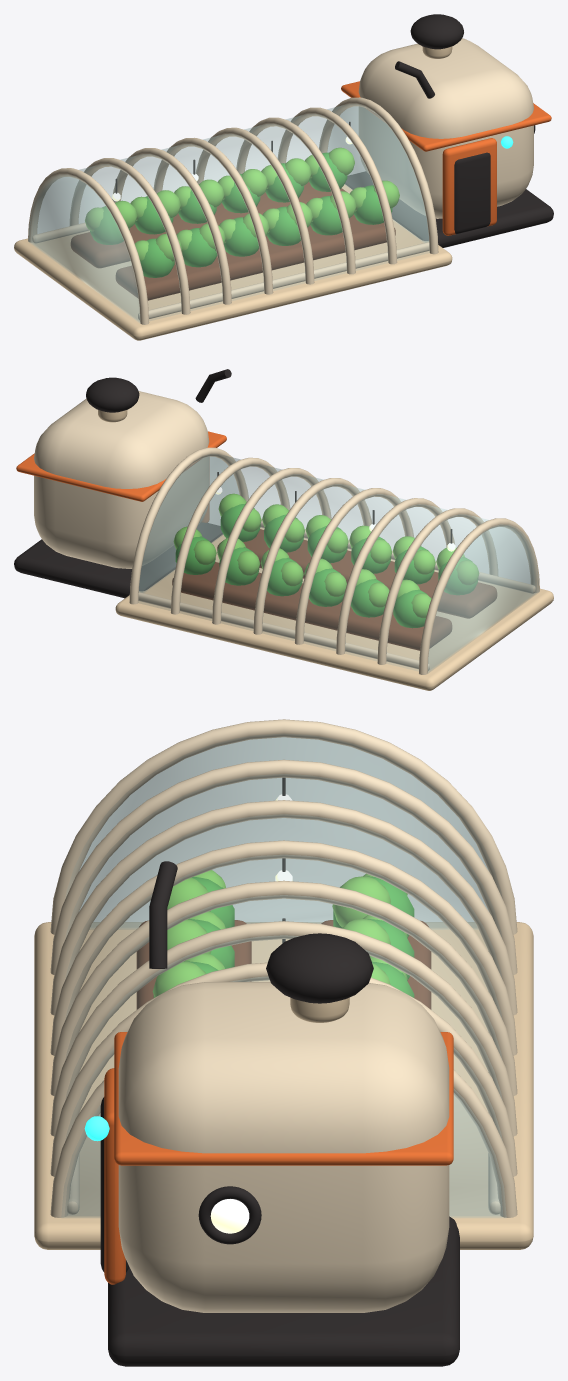
File: greenhouse-10.glb
The picture shows the model from 3 angles, top to bottom: view 1: azimuth 30°, elevation 25°; view 2: azimuth 150°, elevation 25°; view 3: azimuth 270°, elevation 25°; orthographic projection. The views are drawn at different scales.
Parts seen in each view (by area): view 1: Cylinder, Cube.001, Cube, Sphere, Cube.005, Cube.003, Sphere.001, Cube.007; view 2: Cylinder, Cube.001, Cube, Cube.003, Sphere.001, Sphere, Cube.005, Cube.007; view 3: Cube.001, Cylinder, Cube.005, Cube, Cube.007, Sphere.001, Sphere, Cube.003, Cylinder.003.
Part boxes in pixels (x1,y1,x2,y2): Cylinder: [28, 104, 429, 322]; Cube.001: [28, 38, 533, 324]; Cube: [14, 46, 452, 340]; Sphere: [90, 152, 392, 277]; Cube.005: [115, 14, 553, 247]; Cube.003: [71, 181, 395, 300]; Sphere.001: [85, 147, 399, 261]; Cube.007: [341, 81, 551, 235]; Cylinder: [138, 454, 539, 673]; Cube.001: [34, 391, 539, 674]; Cube: [98, 410, 553, 690]; Cube.003: [172, 529, 496, 650]; Sphere.001: [173, 493, 478, 618]; Sphere: [175, 503, 477, 628]; Cube.005: [14, 369, 452, 598]; Cube.007: [16, 431, 226, 522]; Cube.001: [50, 719, 517, 1312]; Cylinder: [61, 734, 506, 1217]; Cube.005: [100, 777, 459, 1366]; Cube: [34, 922, 533, 1249]; Cube.007: [104, 1032, 453, 1284]; Sphere.001: [152, 870, 407, 997]; Sphere: [153, 876, 414, 997]; Cube.003: [136, 920, 431, 1009]; Cylinder.003: [210, 1199, 249, 1233].
Size of the model in its own units: 2.84 by 1.14 by 1.39.
